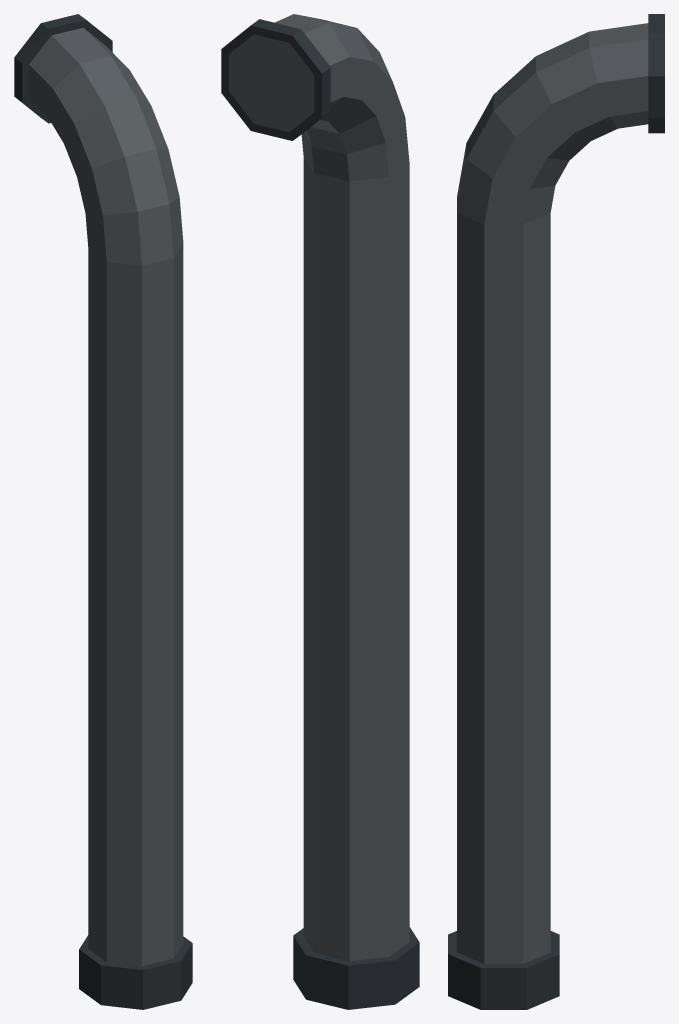
File: WallDecor_06.fbx
3 renders of one model, left to right at view 1: azimuth 30°, elevation 25°; view 2: azimuth 150°, elevation 25°; view 3: azimuth 270°, elevation 25°, orthographic. The views are drawn at different scales.
Parts seen in each view (by area): view 1: WallDecor_06; view 2: WallDecor_06; view 3: WallDecor_06.
Boxes of the visible parts, x1,y1,x2,y2 form: WallDecor_06: [14, 14, 192, 1009]; WallDecor_06: [221, 14, 419, 1009]; WallDecor_06: [448, 14, 664, 1009].
Size of the model in its own units: 25.27 by 240 by 49.08.
